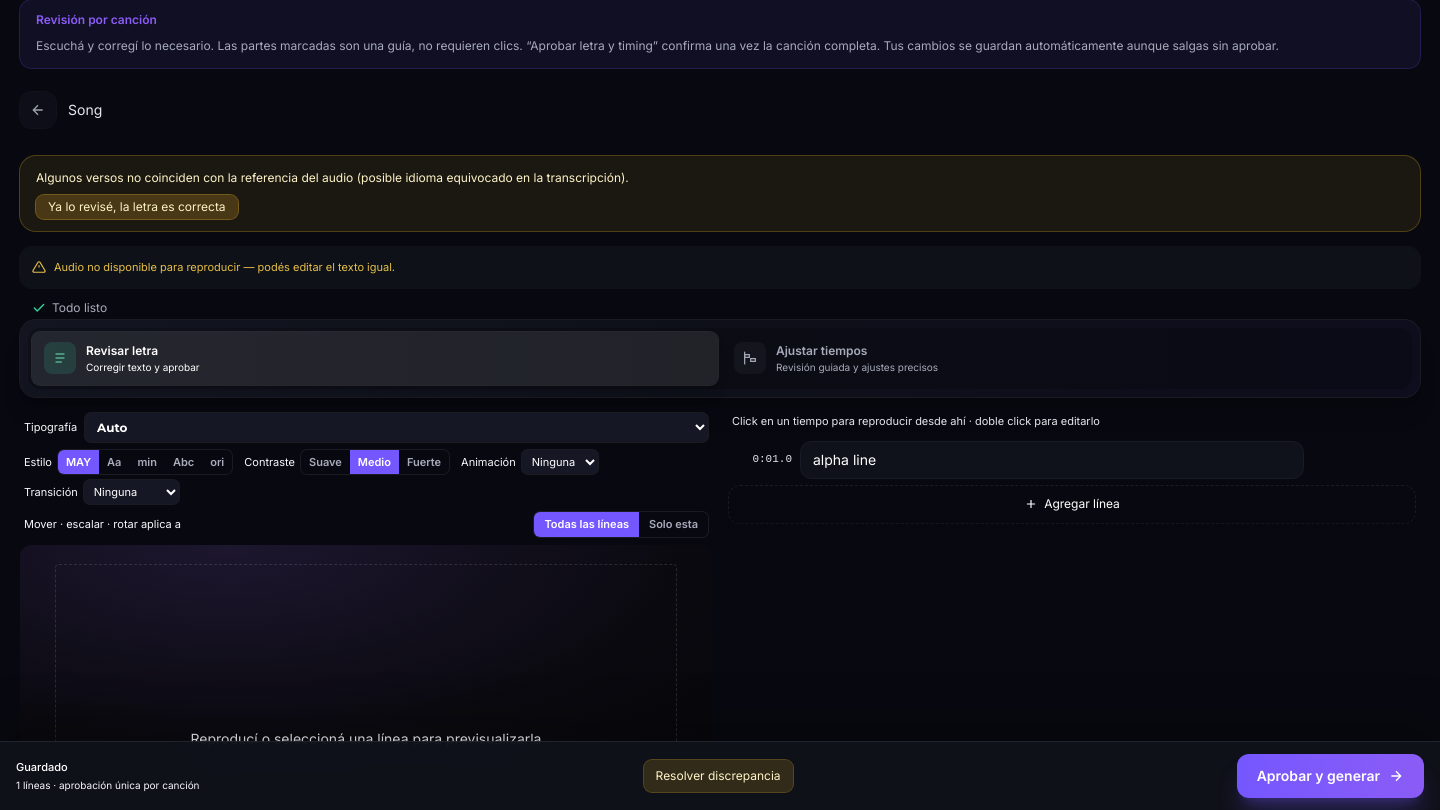
Test: shows stale revision failures instead of silently discarding the confirmation
Click the button "Aprobar y generar": click(1330, 776) [1237,754,1424,798]
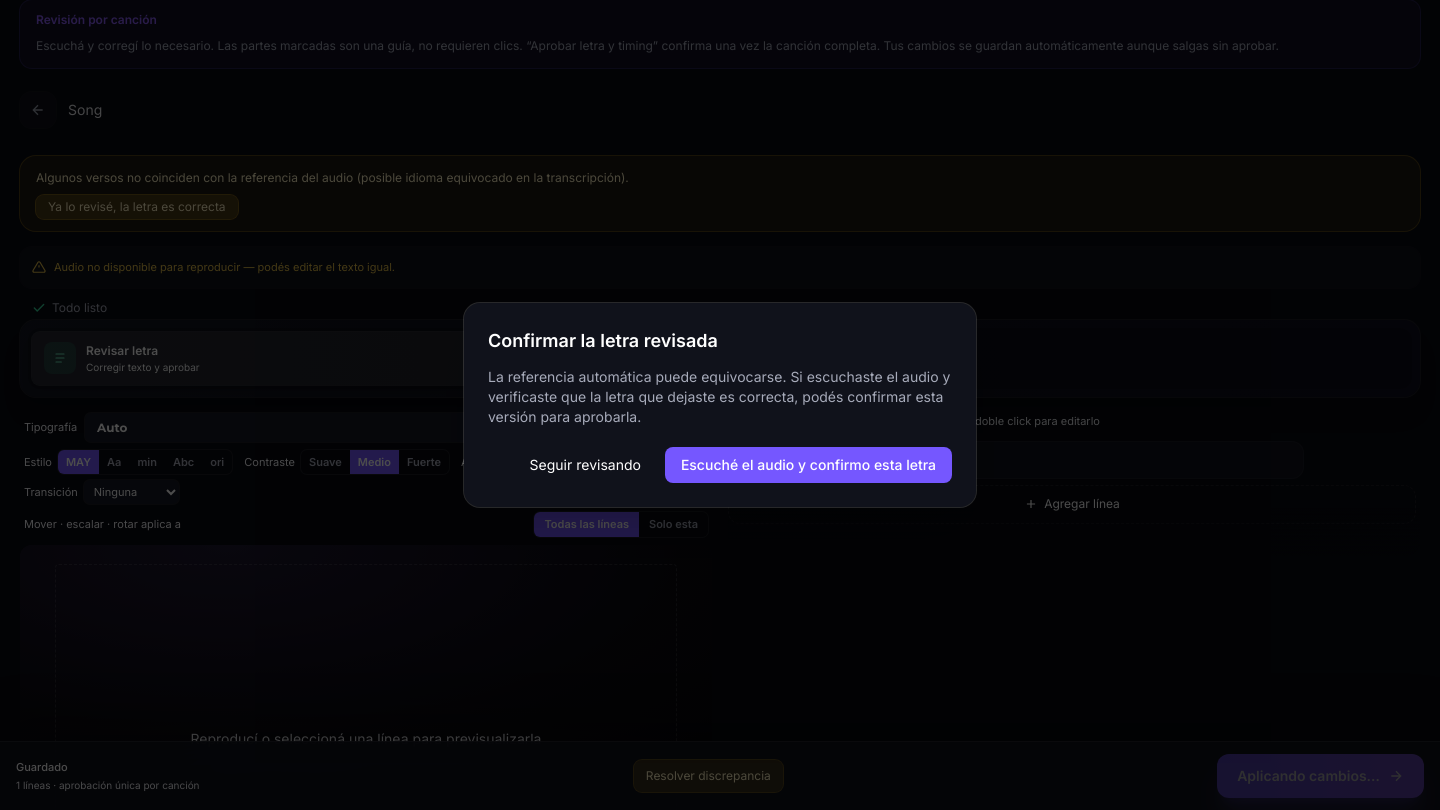
Click the button "Escuché el audio y confirmo esta letra": click(808, 465) [665,447,952,483]
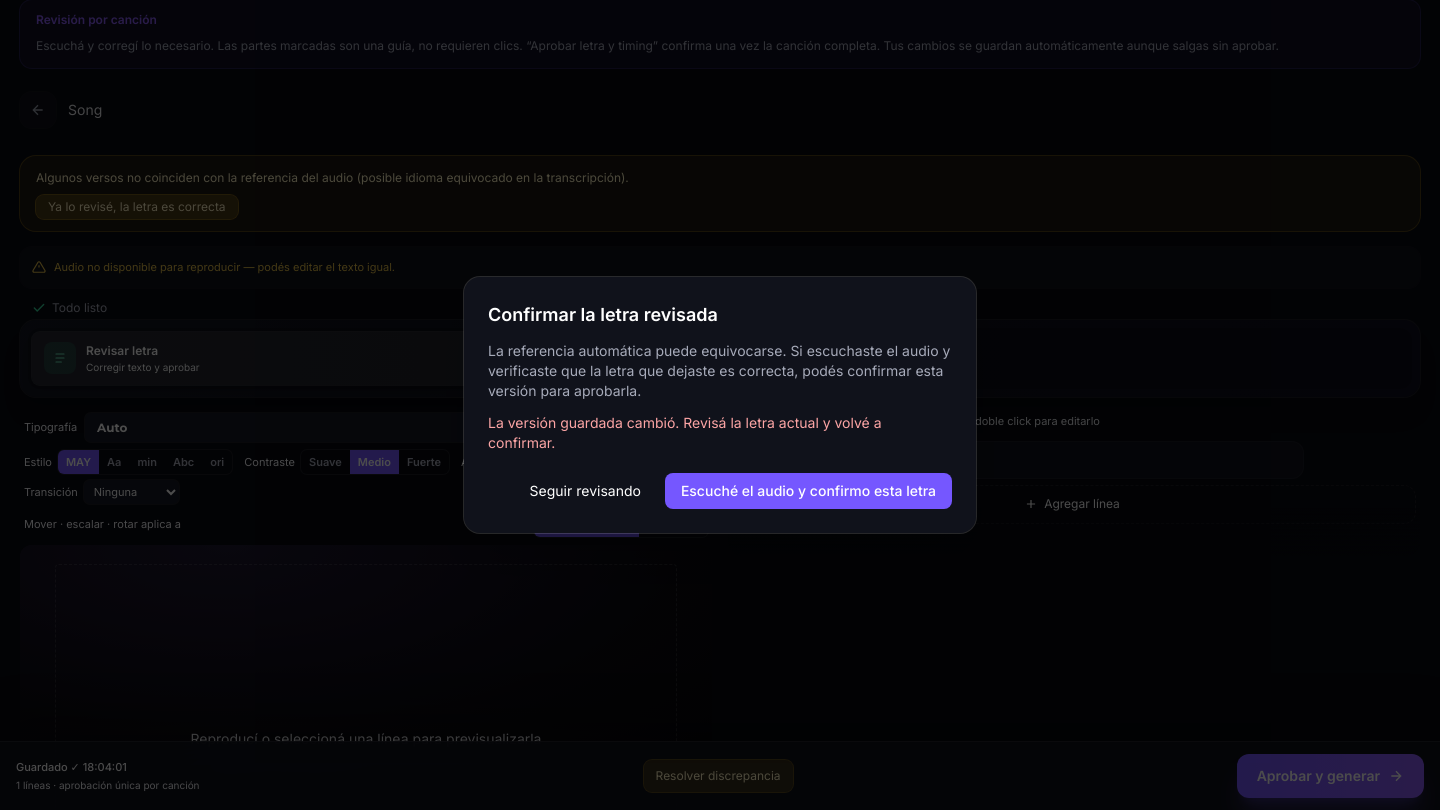
Expected: the text "La versión guardada cambió. Revisá la letra actual y volvé a confirmar." is shown, [488,414,882,451]
